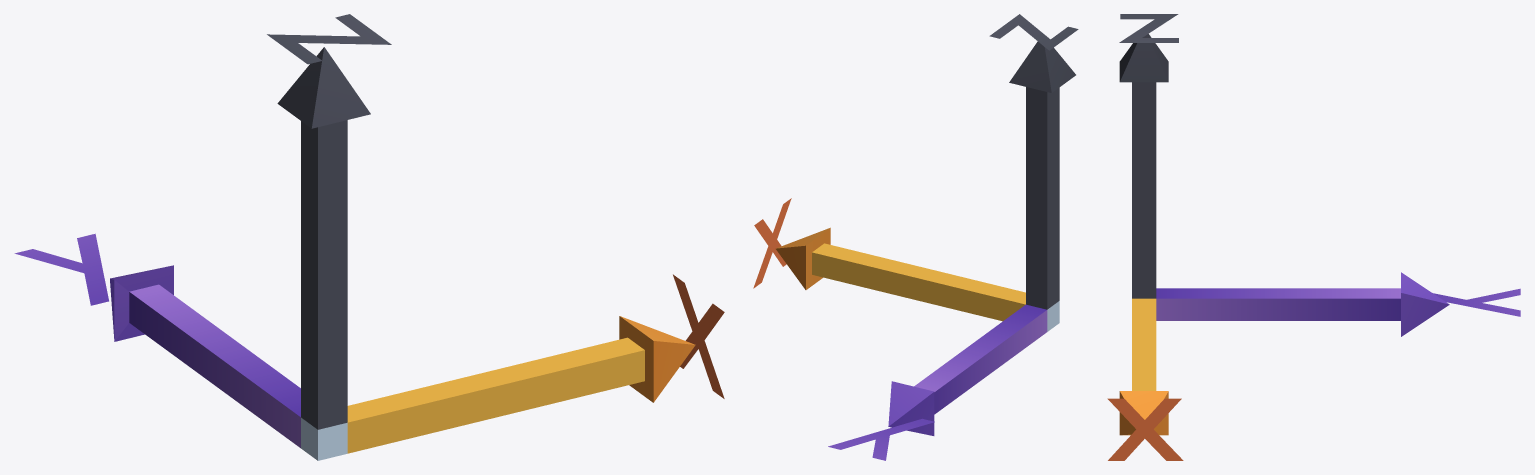
Rendered from axis-transform-yup.glb.
3 renders of one model, left to right at view 1: azimuth 30°, elevation 25°; view 2: azimuth 150°, elevation 25°; view 3: azimuth 270°, elevation 25°, orthographic. The views are drawn at different scales.
Visible parts, largest first — view 1: z axis, xaxis, yaxis, text ypos, text zpos, text xpos, center; view 2: z axis, xaxis, yaxis, text ypos, text xpos, text zpos; view 3: yaxis, z axis, xaxis, text xpos, text zpos, text ypos.
Part boxes in pixels (box(x1,y1,x2,y2)): z axis: box(277, 47, 370, 429); xaxis: box(347, 316, 695, 453); yaxis: box(110, 265, 300, 448); text ypos: box(14, 233, 108, 305); text zpos: box(267, 14, 391, 64); text xpos: box(673, 274, 724, 398); center: box(301, 417, 347, 460); z axis: box(1009, 41, 1075, 309); xaxis: box(776, 227, 1025, 321); yaxis: box(888, 304, 1047, 435); text ypos: box(828, 418, 934, 460); text xpos: box(753, 198, 791, 288); text zpos: box(989, 14, 1078, 50); yaxis: box(1156, 272, 1449, 336); z axis: box(1119, 34, 1168, 298); xaxis: box(1119, 298, 1168, 435); text xpos: box(1107, 398, 1183, 460); text zpos: box(1119, 14, 1178, 42); text ypos: box(1433, 288, 1520, 316).
Size of the model in its own units: 1.13 by 1.1 by 1.35.
Materials: 1 (1 with a texture image).
